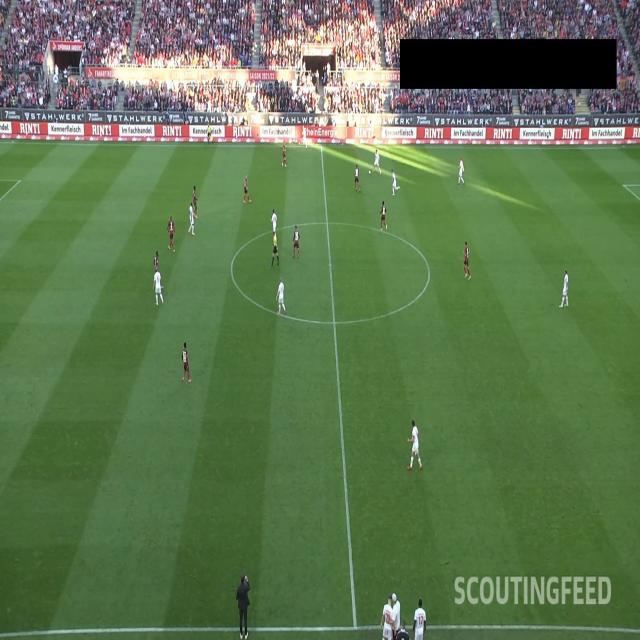ball: (368, 170, 372, 175)
